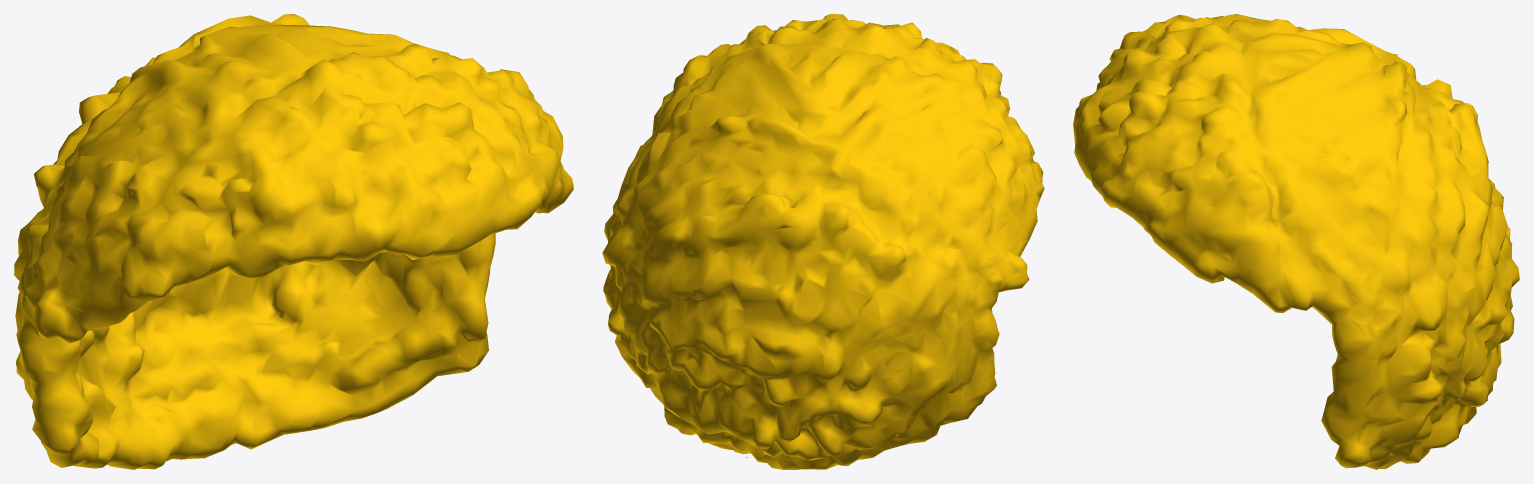
File: messy yellow.glb
The picture shows the model from 3 angles, left to right: view 1: azimuth 30°, elevation 25°; view 2: azimuth 150°, elevation 25°; view 3: azimuth 270°, elevation 25°; orthographic projection. The views are drawn at different scales.
Visible parts, largest first — view 1: hair_short_messy_yellow.001; view 2: hair_short_messy_yellow.001; view 3: hair_short_messy_yellow.001.
Part boxes in pixels (x1,y1,x2,y2): hair_short_messy_yellow.001: (14, 14, 573, 469); hair_short_messy_yellow.001: (602, 14, 1044, 469); hair_short_messy_yellow.001: (1073, 14, 1519, 469).
Size of the model in its own units: 0.3458 by 0.317 by 0.3197.
Materials: 1 (1 with a texture image).
